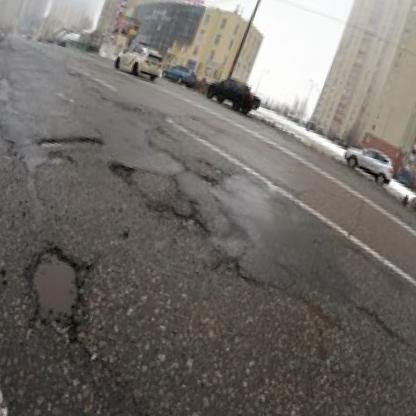pothole: (22, 244, 99, 331), (38, 122, 104, 162), (213, 250, 244, 281), (109, 160, 134, 184), (199, 171, 224, 192), (174, 209, 197, 230)
